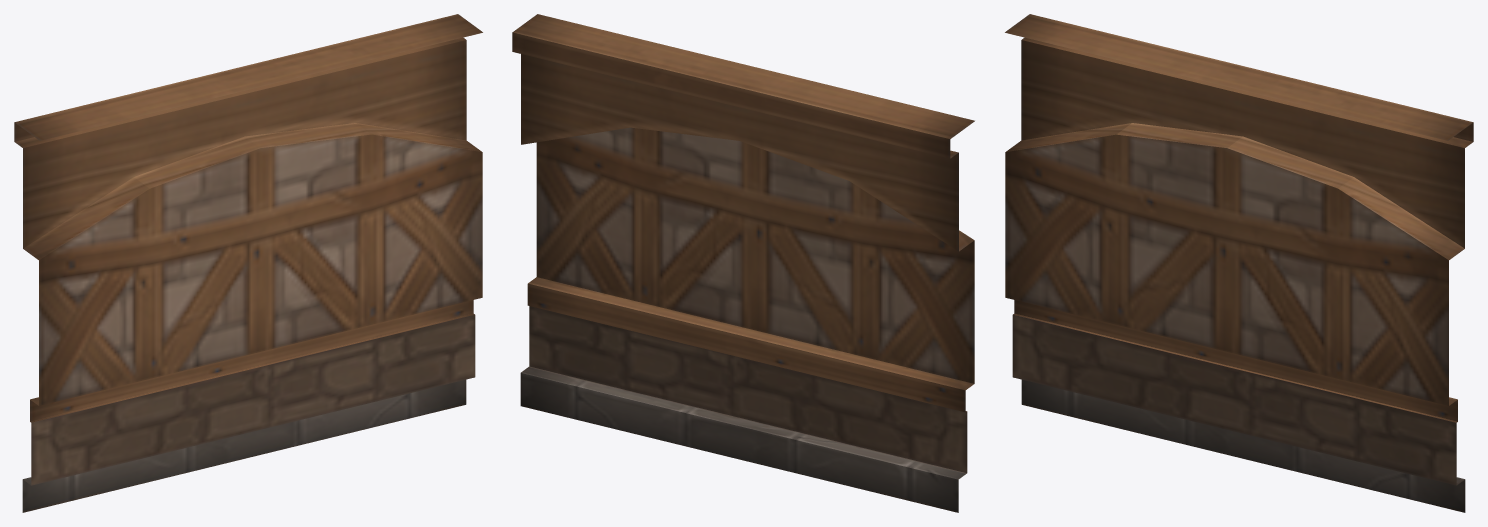
The model's file is wood_wall.FBX.
3 renders of one model, left to right at view 1: azimuth 30°, elevation 25°; view 2: azimuth 150°, elevation 25°; view 3: azimuth 330°, elevation 25°, orthographic.
Parts seen in each view (by area): view 1: Object112; view 2: Object112; view 3: Object112.
Part boxes in pixels (x1,y1,x2,y2): Object112: (14, 14, 482, 512); Object112: (512, 14, 974, 512); Object112: (1005, 14, 1473, 512).
Bounding box in the file's own units: 2.88 × 2.39 × 0.2868.
